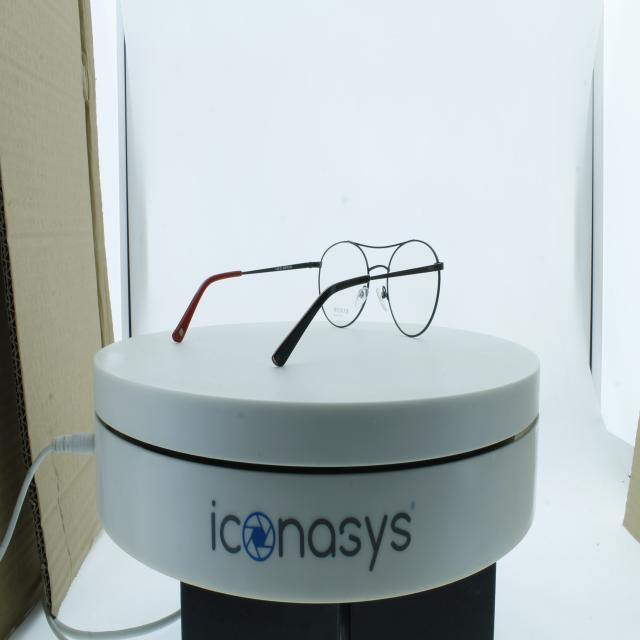Specs: (166, 225, 484, 398)
